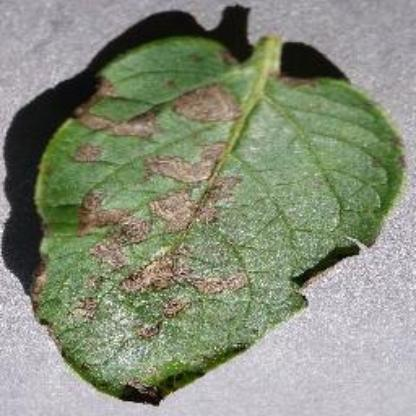Early-Blight: (25, 24, 405, 404)
